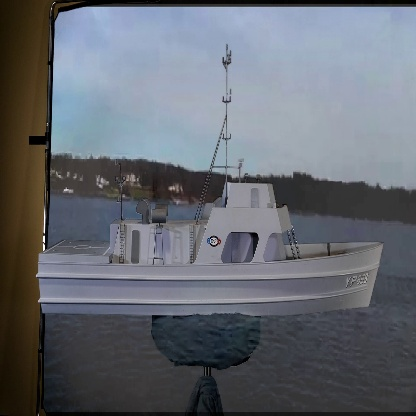YP689: (35, 41, 385, 320)
